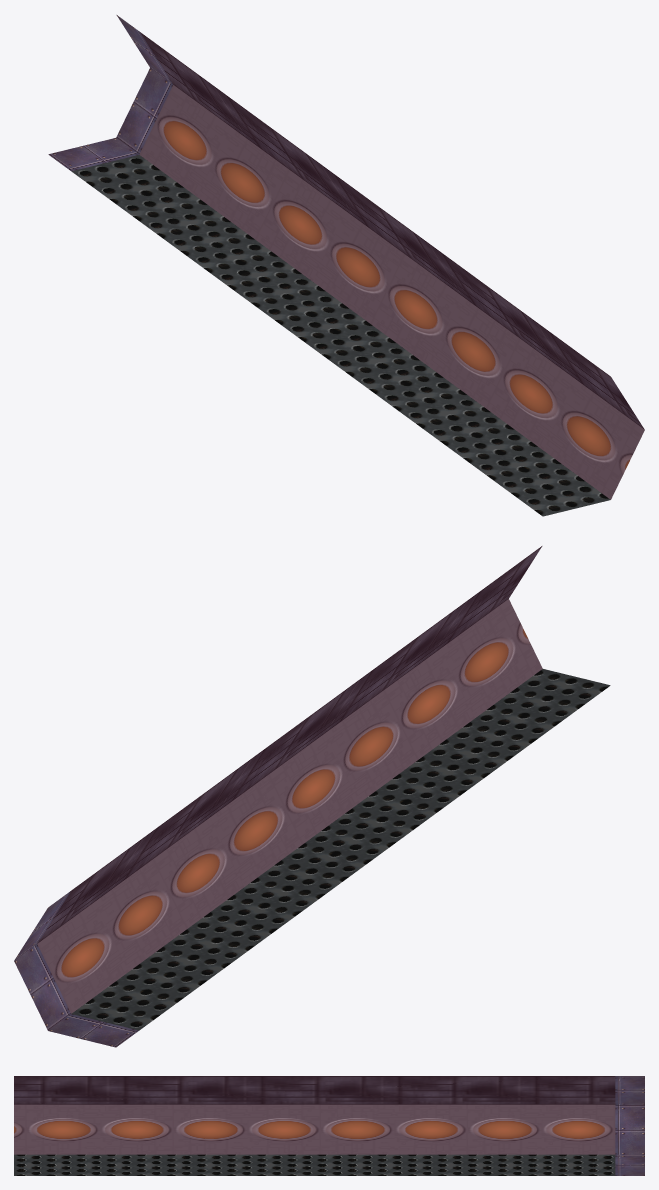
3 renders of one model, top to bottom at view 1: azimuth 30°, elevation 25°; view 2: azimuth 150°, elevation 25°; view 3: azimuth 270°, elevation 25°, orthographic. The views are drawn at different scales.
Visible parts, largest first — view 1: Cylinder03; view 2: Cylinder03; view 3: Cylinder03.
Boxes of the visible parts, x1,y1,x2,y2 form: Cylinder03: (48,15,644,516); Cylinder03: (14,546,610,1047); Cylinder03: (14,1076,644,1175).
Size of the model in its own units: 587 by 509 by 3696.
4 materials, 4 textured.
